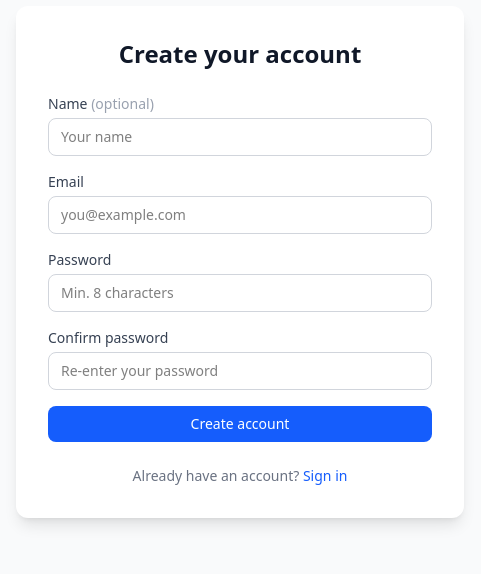
Scenario: Register › shows error when password is too short
In the field labelled "Email": [240, 215] box [48, 196, 432, 234], type "test@example.com"
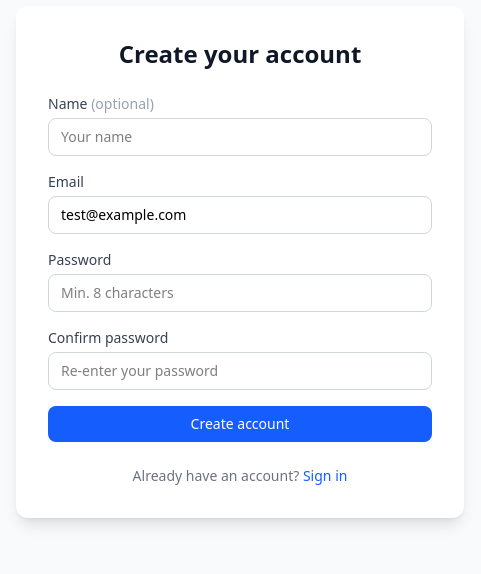
In the password field labelled "Password": [240, 293] box [48, 274, 432, 312], type "short"
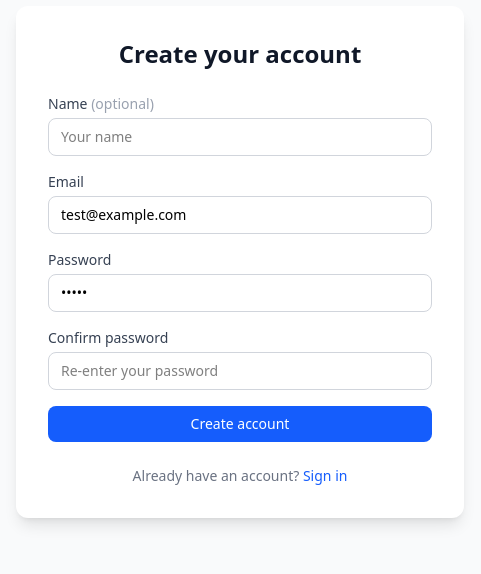
In the password field labelled "Confirm password": [240, 371] box [48, 352, 432, 390], type "short"
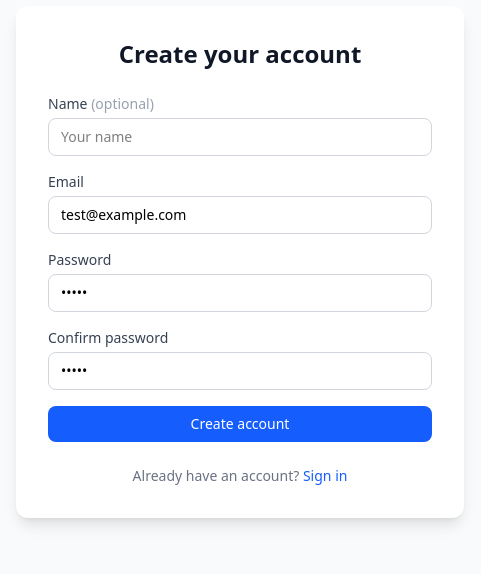
Click the button "Create account": [240, 424] box [48, 406, 432, 442]
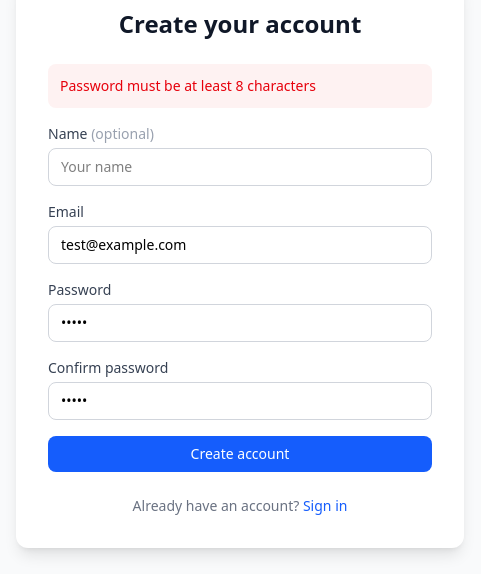
Now the text "Password must be at least 8 characters" is shown, box [48, 64, 432, 108]
